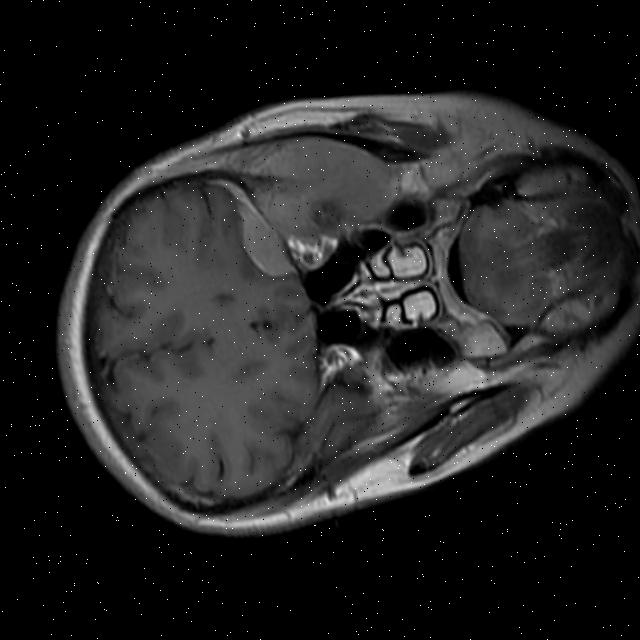Meningioma: (237, 110, 409, 251), (229, 190, 297, 285)
